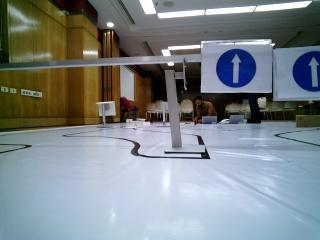straight: (202, 42, 274, 93), (273, 46, 320, 99)
